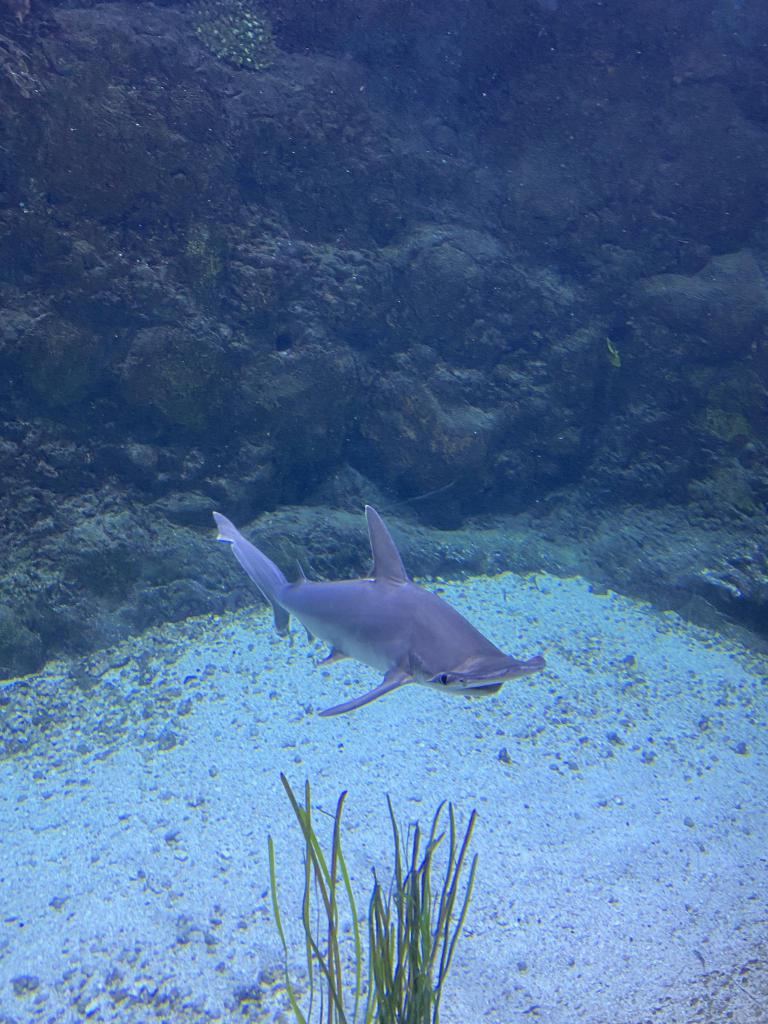Shark: (212, 505, 536, 714)
